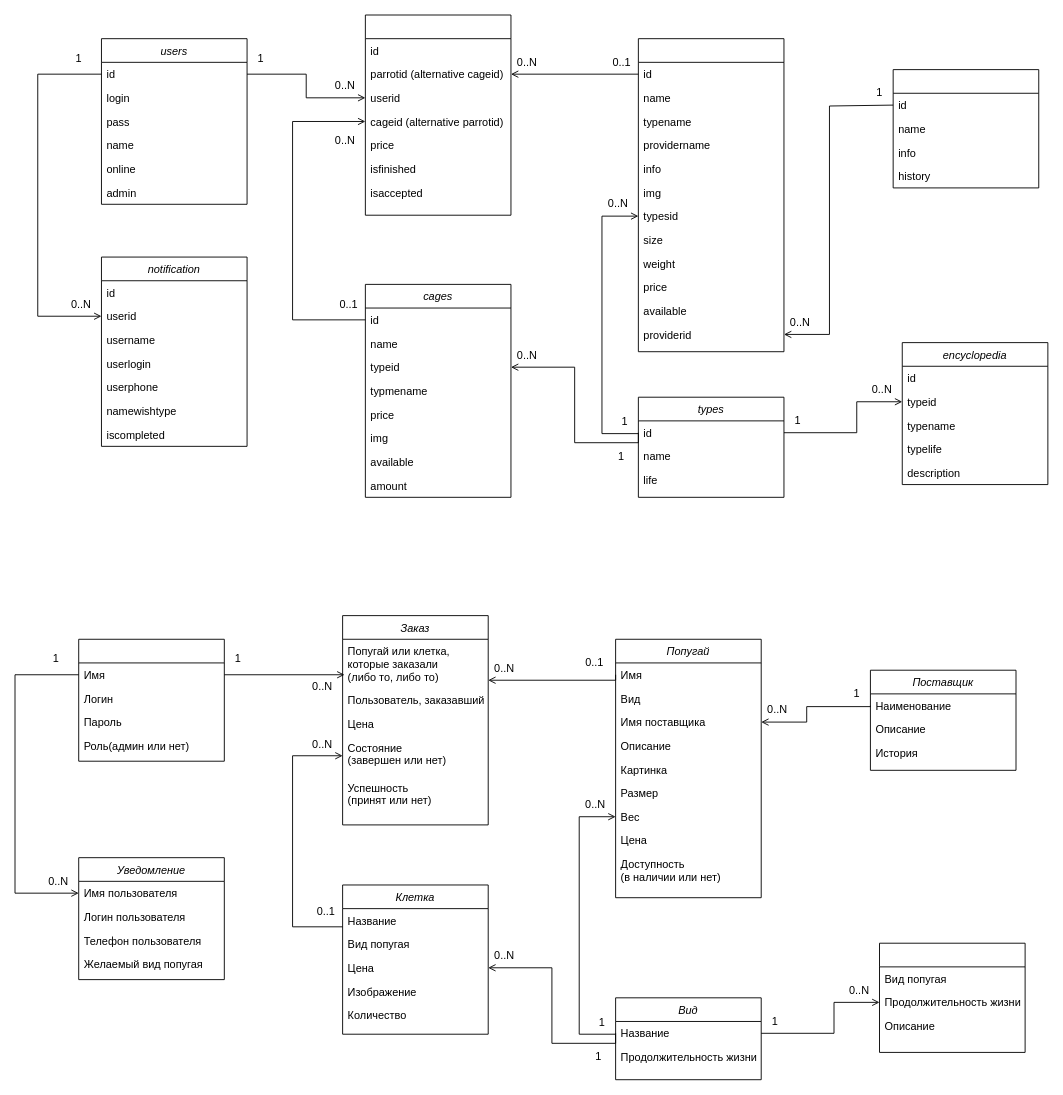
This 1063x1095 diagram has some shape labels left out. The box of each missing label's shape, as (x1, y1, x2, y2) in pixels:
orders: (364, 14, 511, 215)
parrots: (637, 38, 784, 352)
providers: (892, 69, 1039, 188)
Пользователь: (78, 638, 224, 761)
Энкиклопедия: (879, 942, 1025, 1052)
